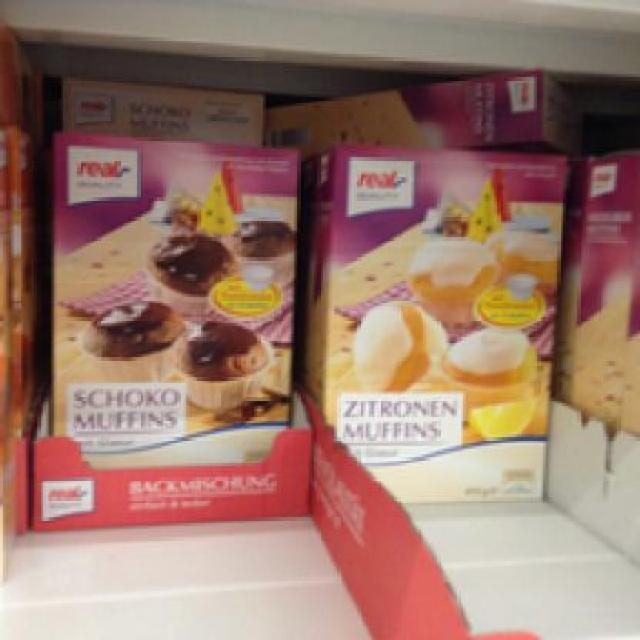Cake: (306, 137, 574, 517), (43, 122, 300, 512)
